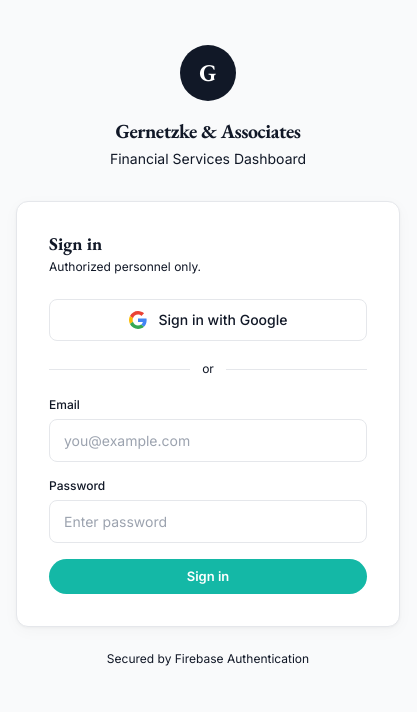
Test: LoginScreen › shows error for unauthorized email on email login
Type "hacker@evil.com" into the field labelled "Email".
click(208, 441); type("hacker@evil.com")  # box x1=49 y1=419 x2=367 y2=462
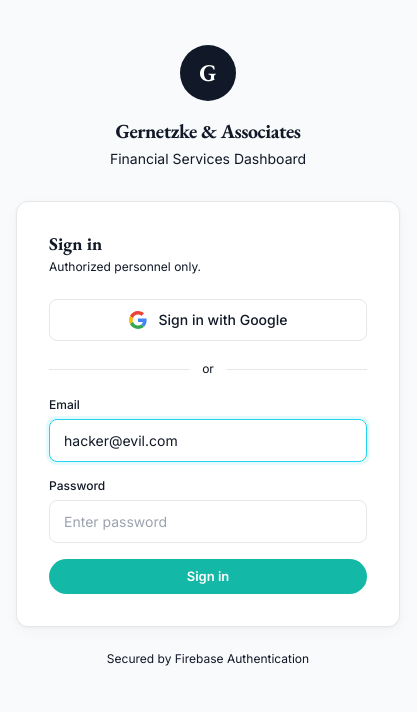
Type "password123" into the password field labelled "Password".
click(208, 522); type("password123")  # box x1=49 y1=500 x2=367 y2=543
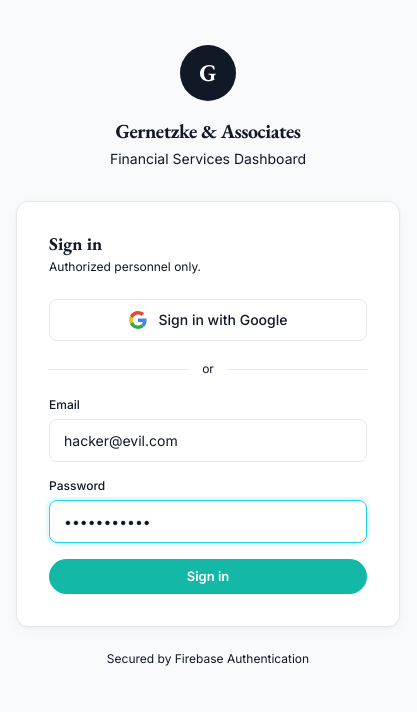
Click the button "Sign in".
click(208, 576)  # box x1=49 y1=559 x2=367 y2=594
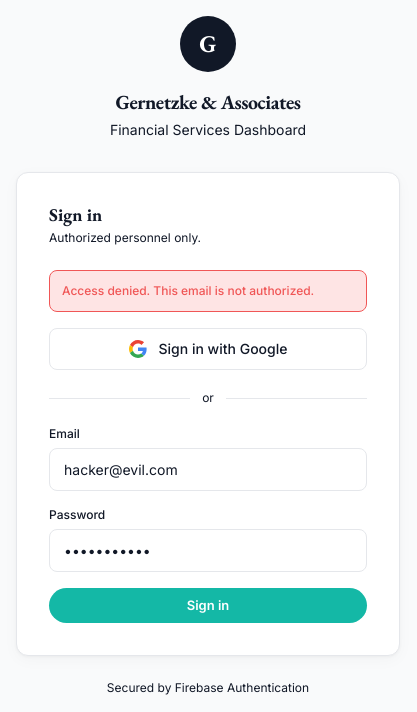
Expected: the text "Access denied. This email is not authorized." is shown, x1=49 y1=270 x2=367 y2=312
